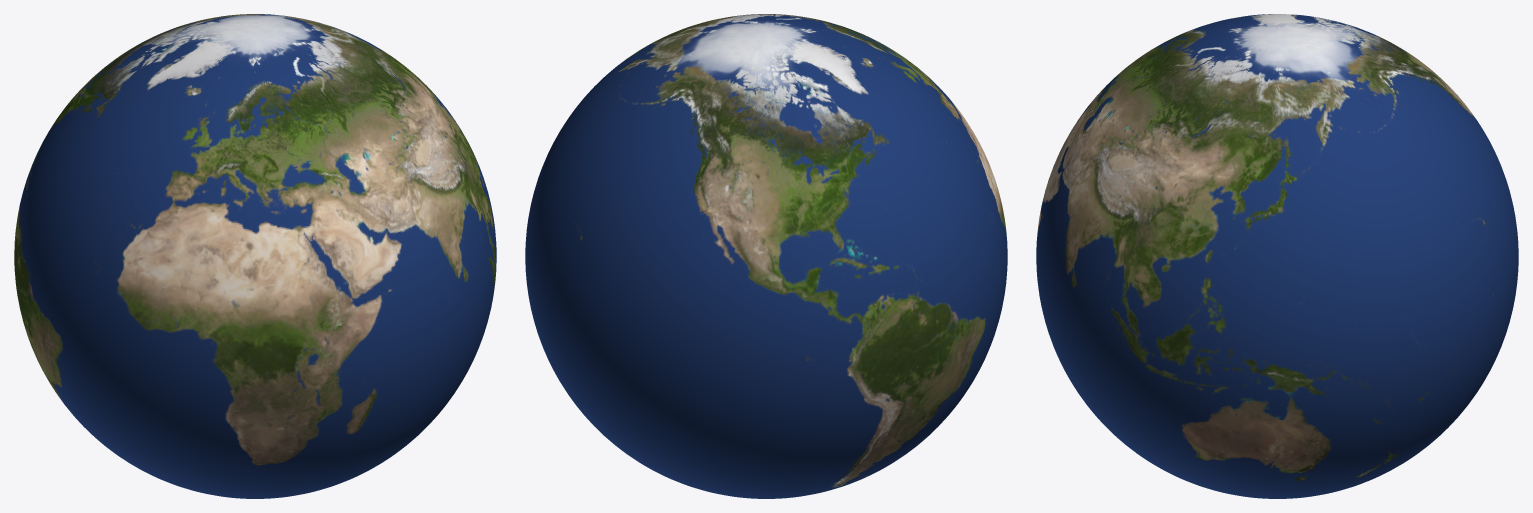
File: TERRE.fbx
The picture shows the model from 3 angles, left to right: view 1: azimuth 30°, elevation 25°; view 2: azimuth 150°, elevation 25°; view 3: azimuth 270°, elevation 25°; orthographic projection.
Visible parts, largest first — view 1: terre; view 2: terre; view 3: terre.
Part boxes in pixels (x1,y1,x2,y2): terre: [14, 14, 496, 498]; terre: [525, 14, 1007, 498]; terre: [1036, 14, 1518, 498].
Size of the model in its own units: 103 by 105 by 103.
1 material, 1 textured.
